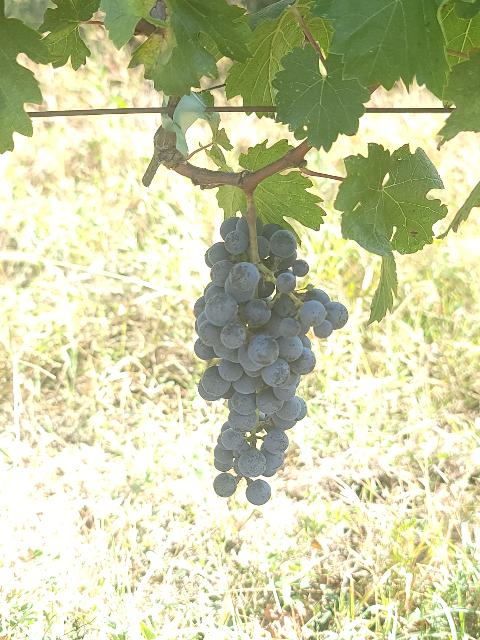grapes: (195, 218, 348, 504)
